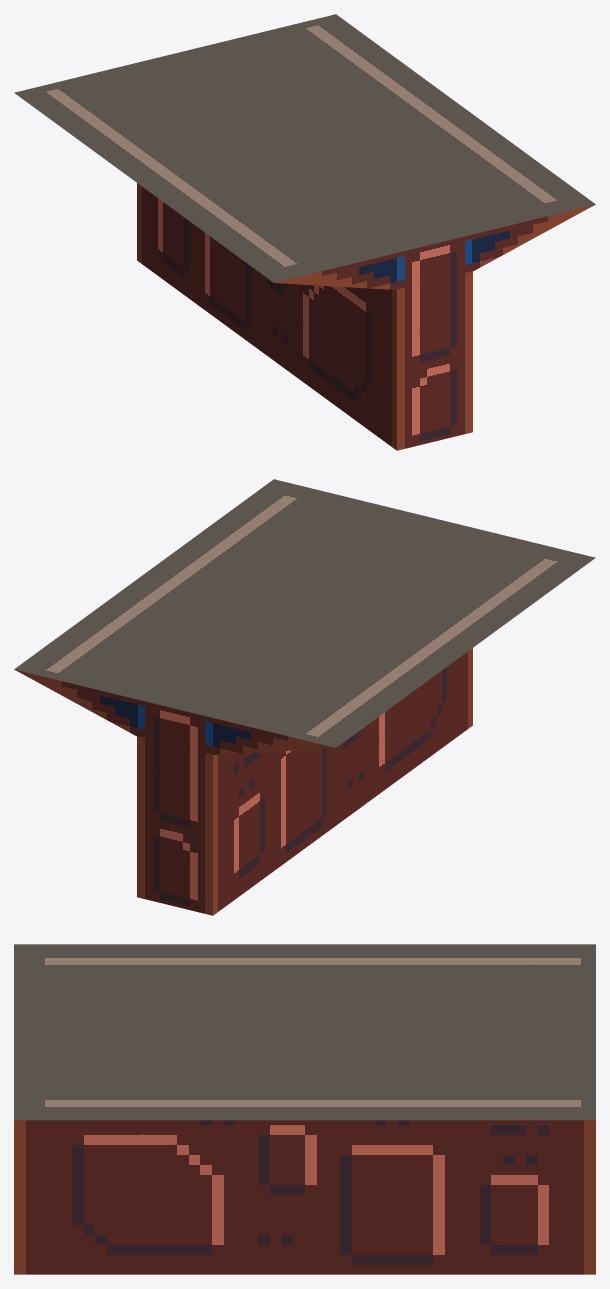
The model's file is lounge_table.fbx.
The picture shows the model from 3 angles, top to bottom: view 1: azimuth 30°, elevation 25°; view 2: azimuth 150°, elevation 25°; view 3: azimuth 270°, elevation 25°; orthographic projection. The views are drawn at different scales.
Parts seen in each view (by area): view 1: tabele_1.002; view 2: tabele_1.002; view 3: tabele_1.002.
Boxes of the visible parts, x1=… form: tabele_1.002: x1=14, y1=14, x2=595, y2=450; tabele_1.002: x1=14, y1=479, x2=595, y2=915; tabele_1.002: x1=14, y1=944, x2=595, y2=1274.
Size of the model in its own units: 159 by 93.11 by 222.
